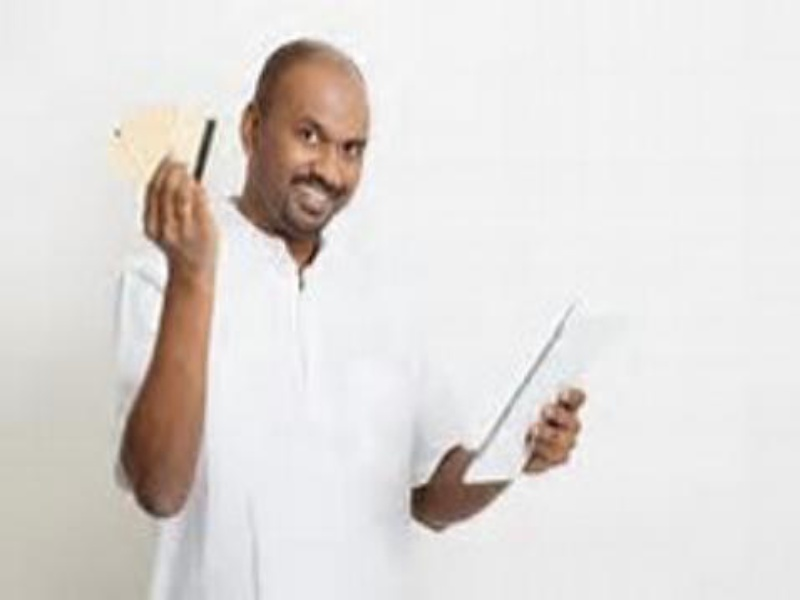TsisyArotava: (220, 32, 379, 263)
